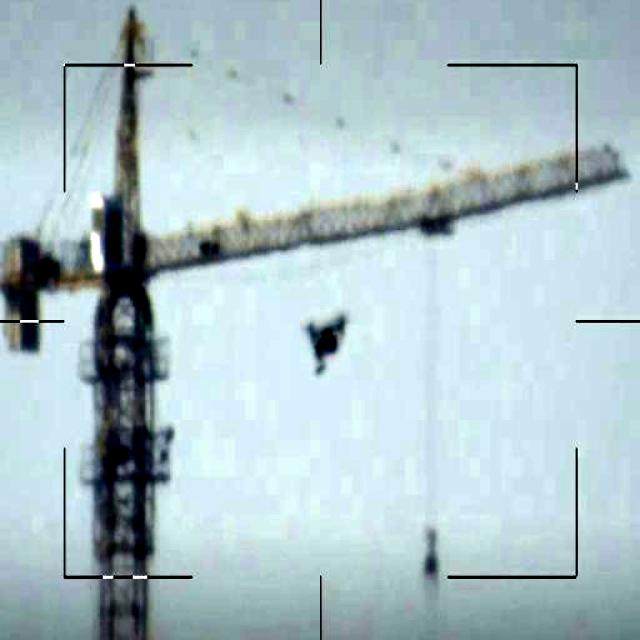bird: (301, 310, 355, 381)
